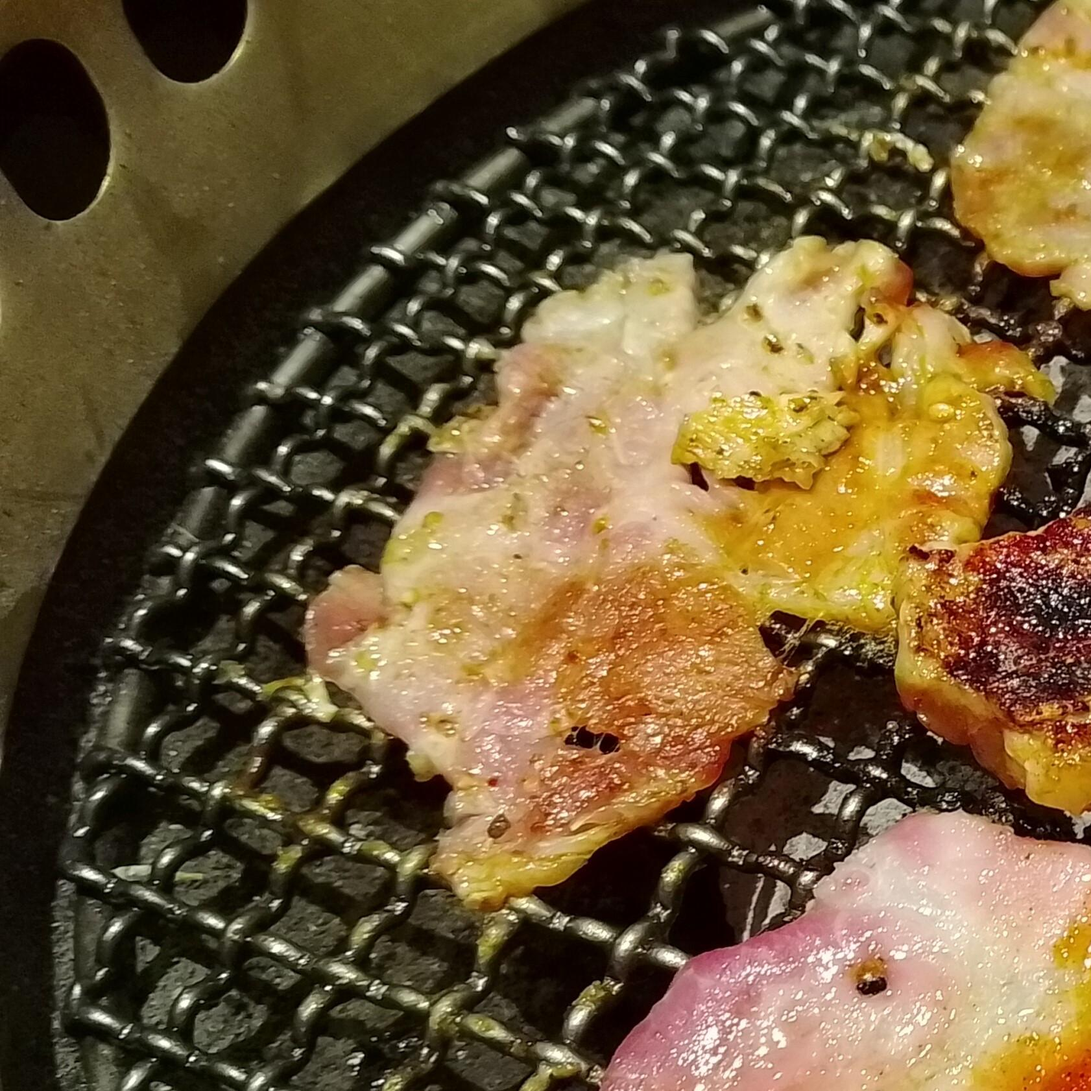Overcooked: (891, 511, 1090, 845)
Undercooked: (304, 239, 1055, 917), (598, 813, 1090, 1090)
Well-Cooked: (947, 0, 1090, 315)
